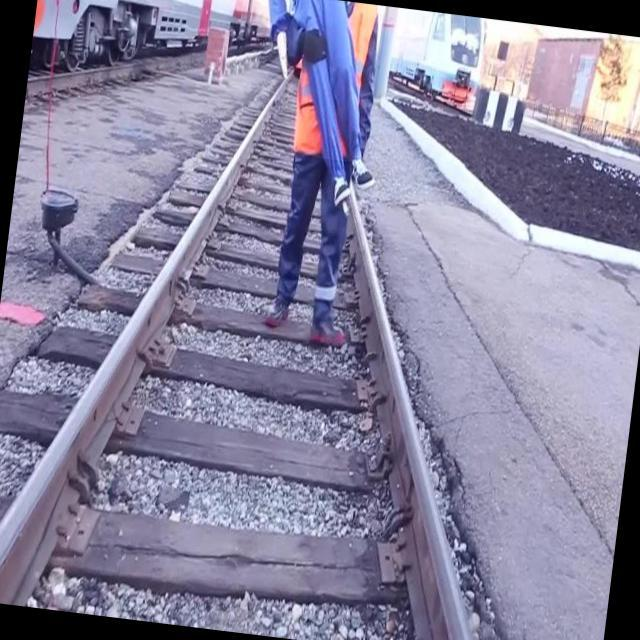Person: (250, 0, 414, 362)
Safety Boot: (304, 290, 351, 353), (258, 286, 298, 334)
Safety Vest: (290, 0, 379, 162)
